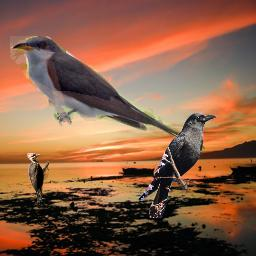Crow: (138, 112, 216, 218)
Cuckoo: (10, 36, 205, 154)
Woodpecker: (27, 153, 49, 204)
